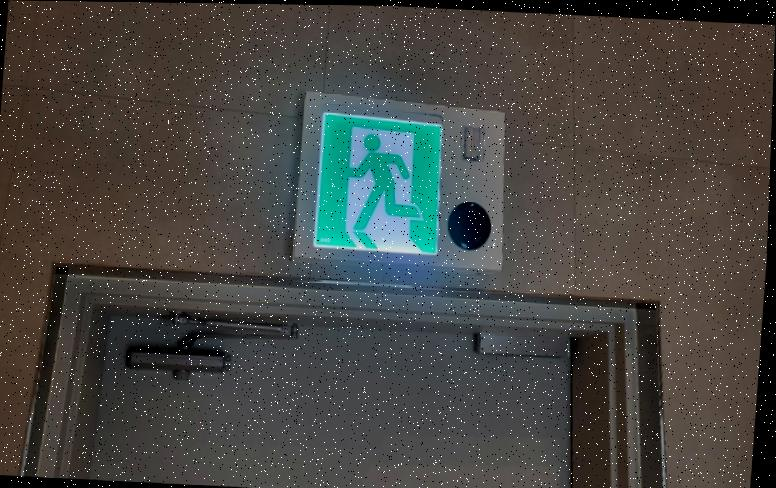emergency_exit: (291, 90, 506, 274), (312, 110, 443, 257)
